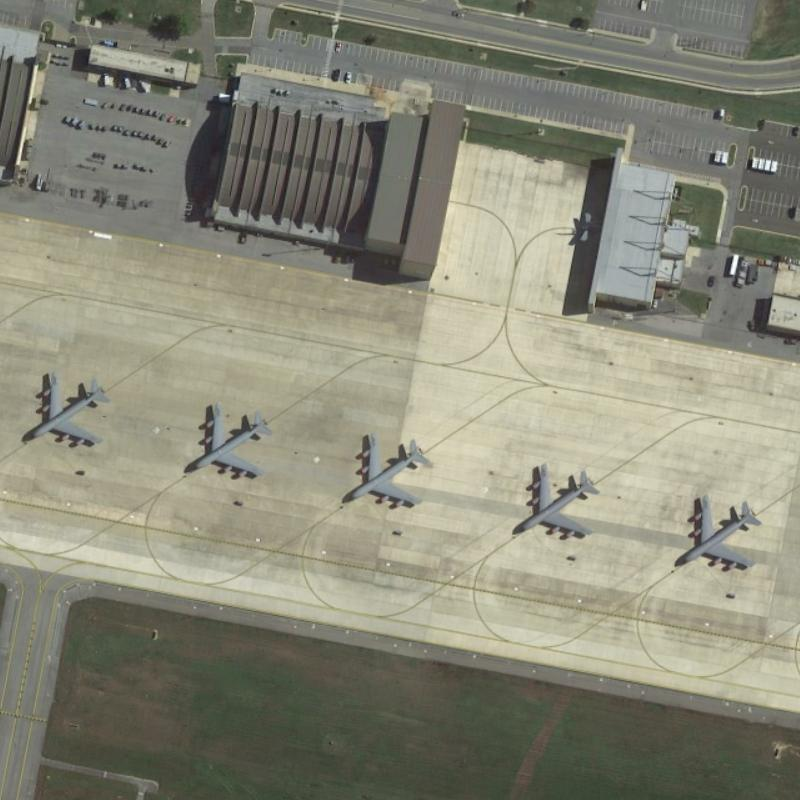A14: (671, 489, 765, 574), (507, 459, 601, 544), (344, 429, 435, 513), (187, 397, 277, 481), (24, 366, 112, 449)
